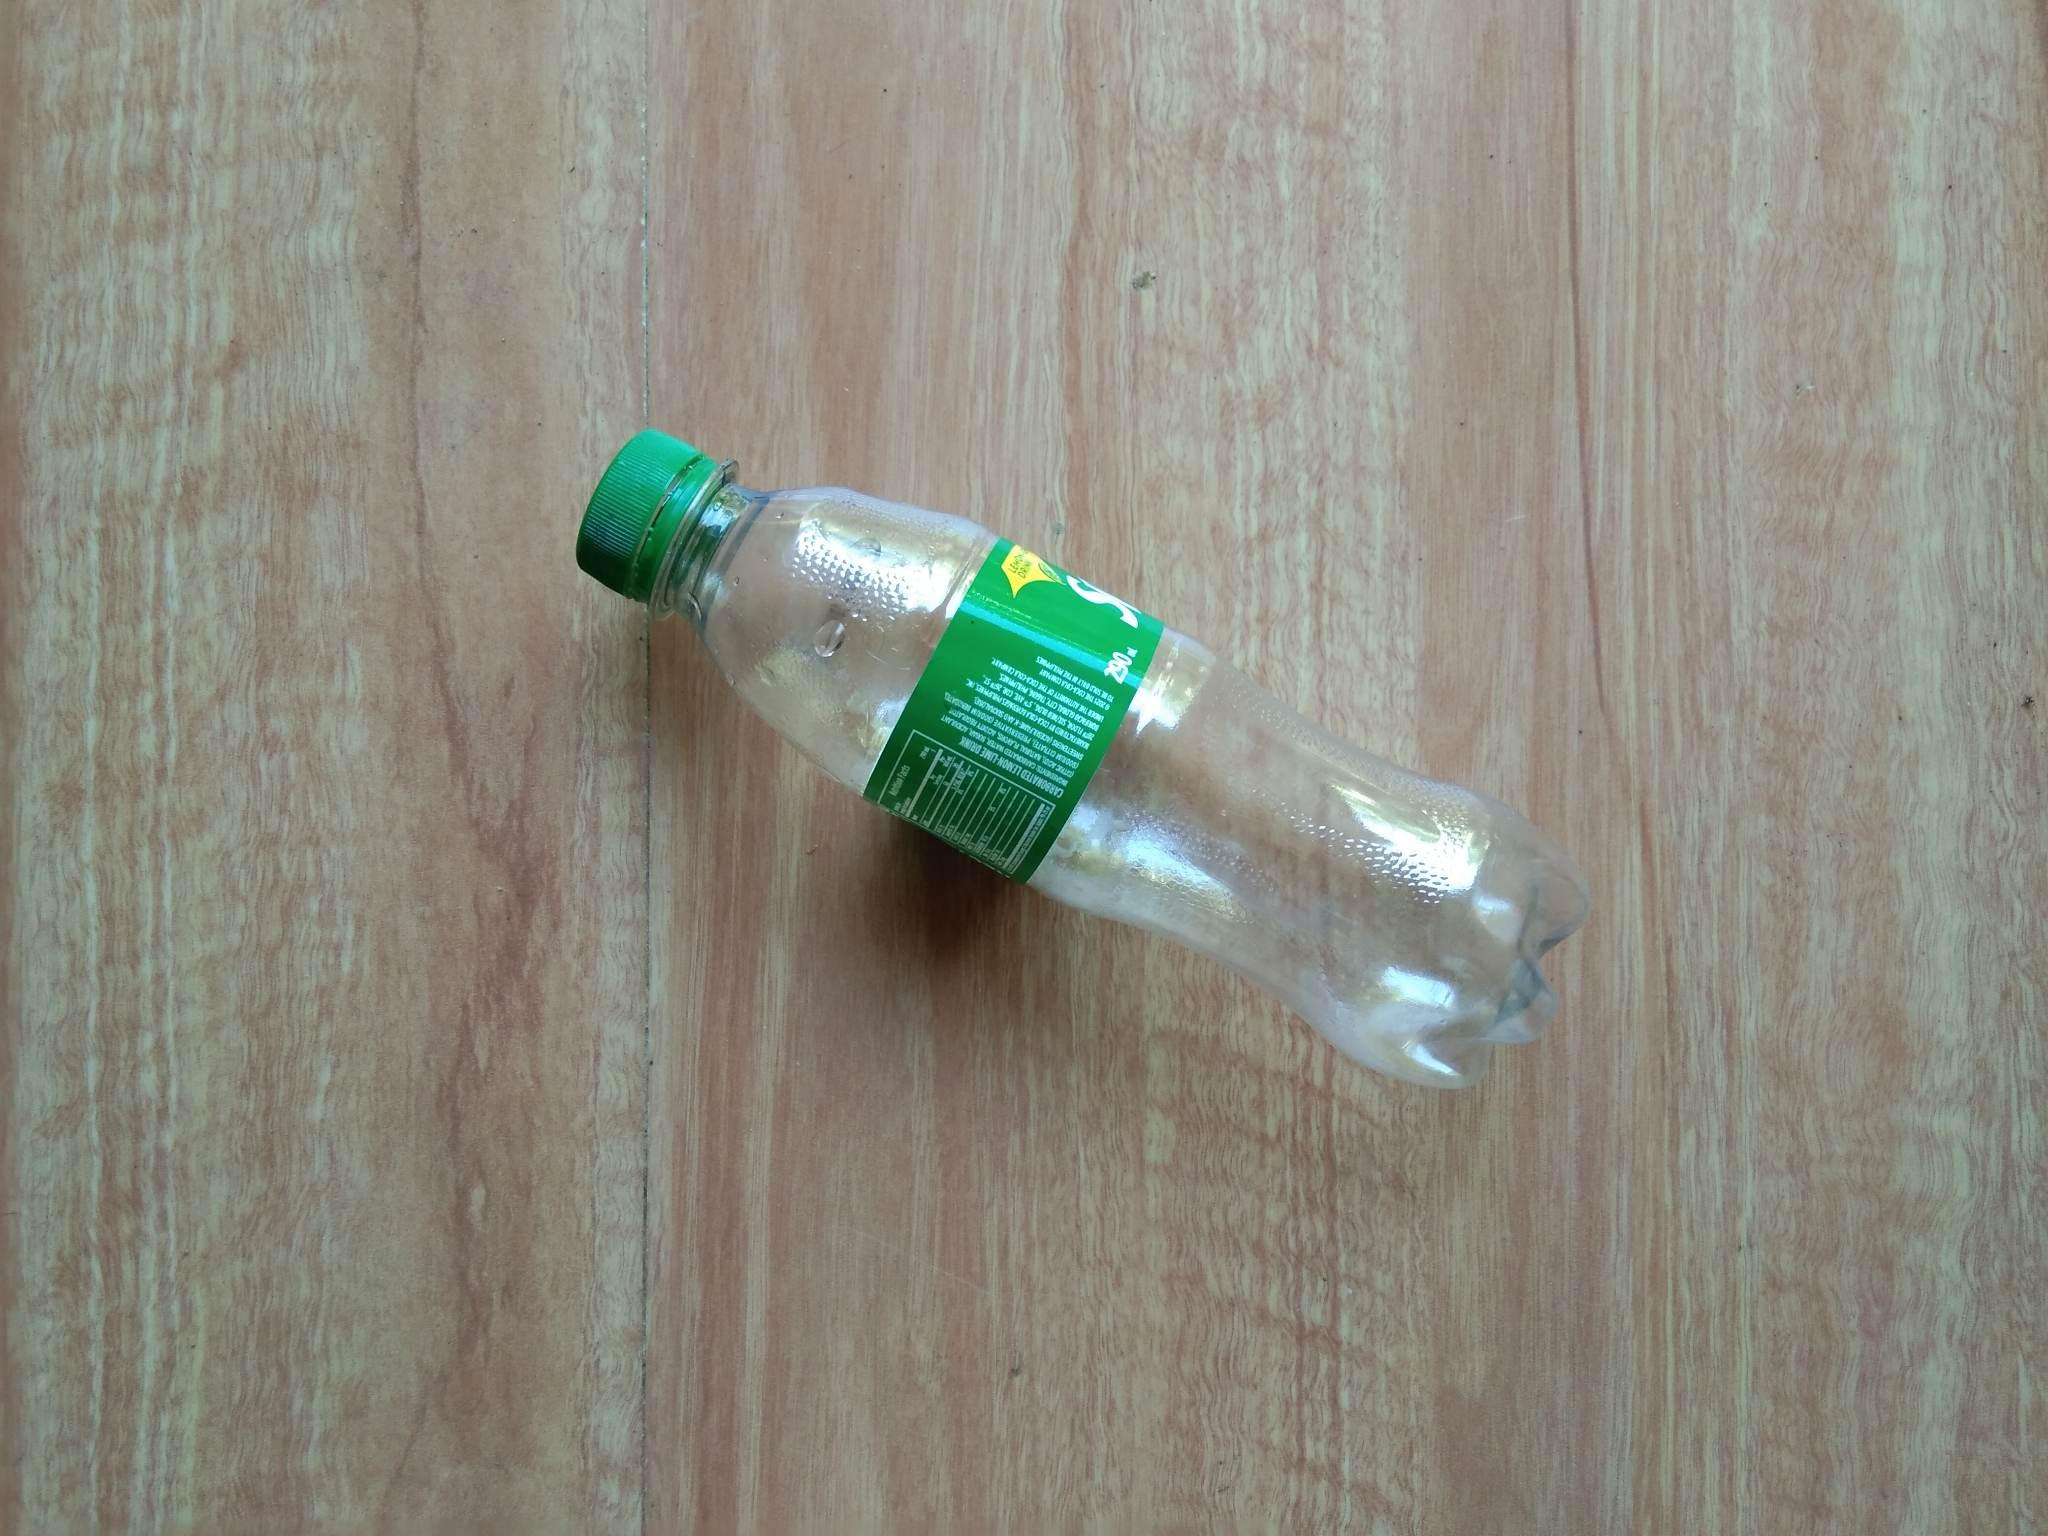plastic: (452, 347, 1727, 1247)
